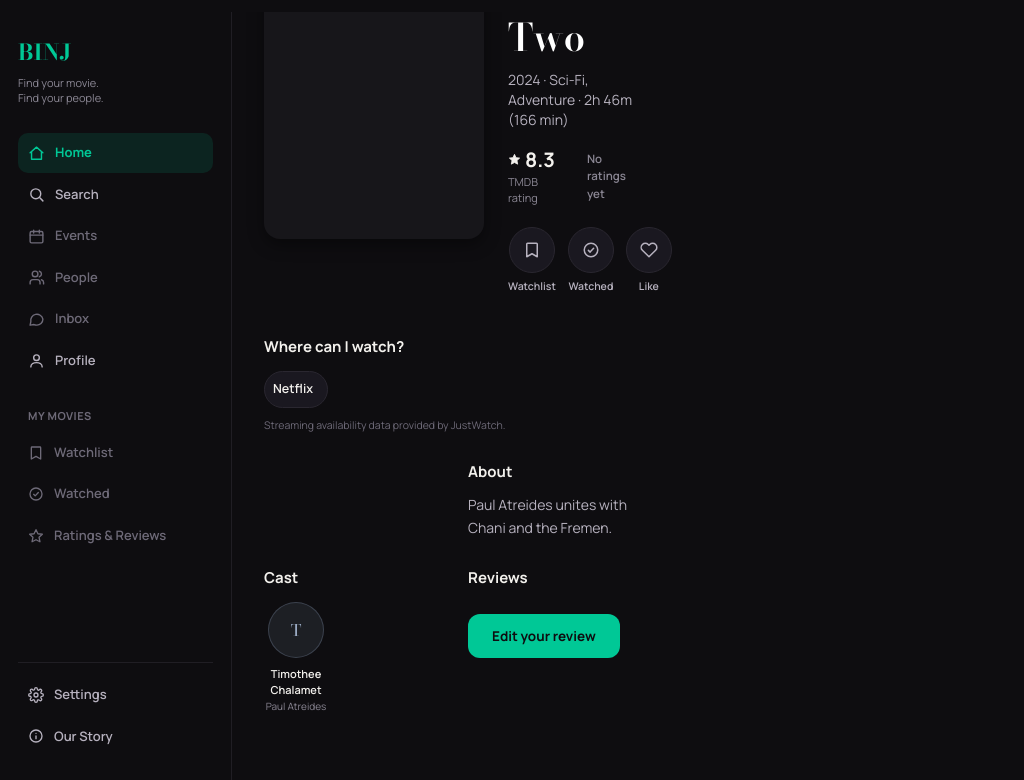
MovieDetail › "Write a review" pre-fills and offers Delete when the caller already has a review
(page scrolled)
Click the button "Edit your review": (544, 636) [468,614,620,658]
(page scrolled)
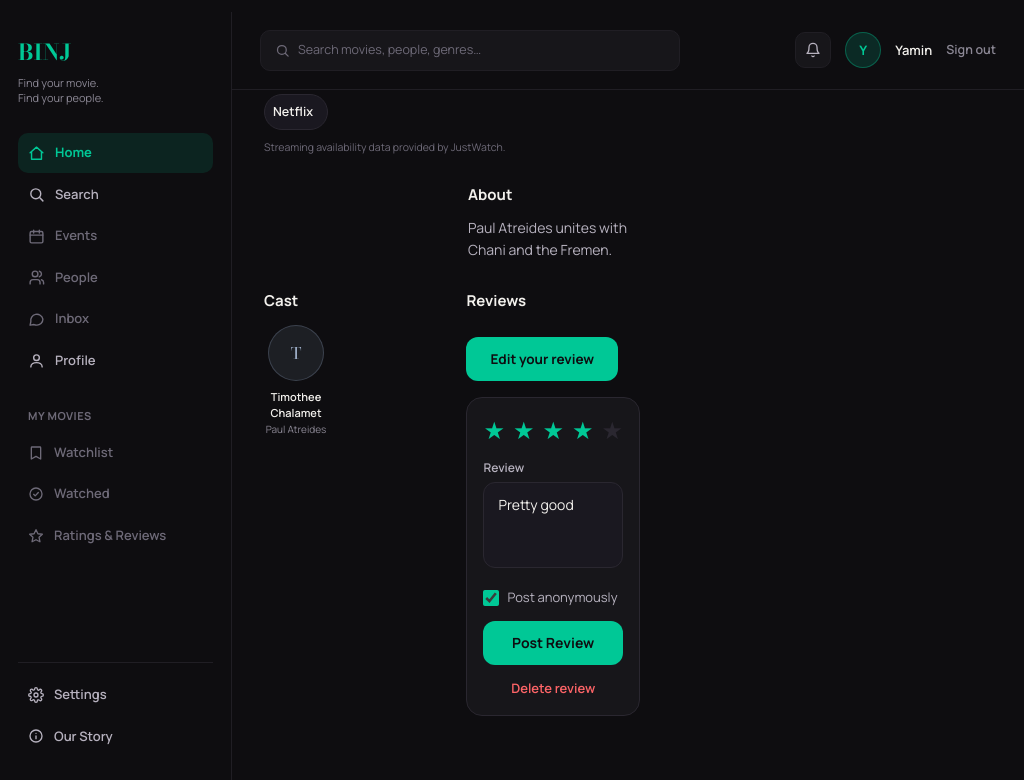
Check: the text box labelled "Review" holds "Pretty good", box [483,482,623,568]
Check: the checkbox labelled "Post anonymously" is checked, box [483,590,499,606]
Check: the button "Delete review" is shown, box [483,679,623,699]
